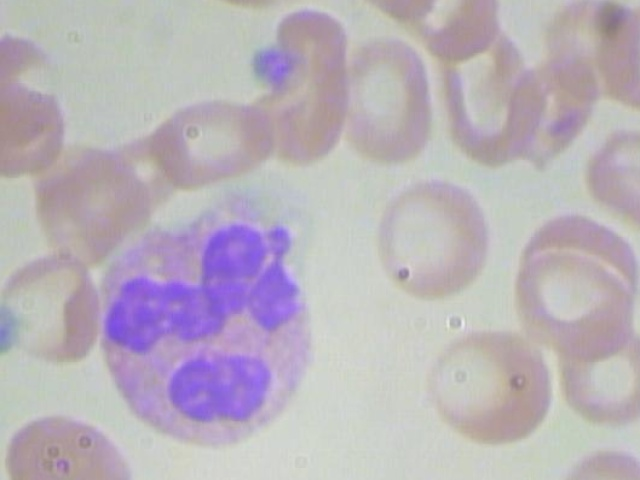RBC: (365, 177, 492, 305), (511, 227, 638, 355), (429, 326, 550, 446), (152, 86, 276, 186), (341, 36, 437, 162), (2, 403, 136, 480), (555, 309, 640, 429), (578, 115, 640, 235), (603, 0, 640, 110)
WBC: (84, 186, 322, 454)
